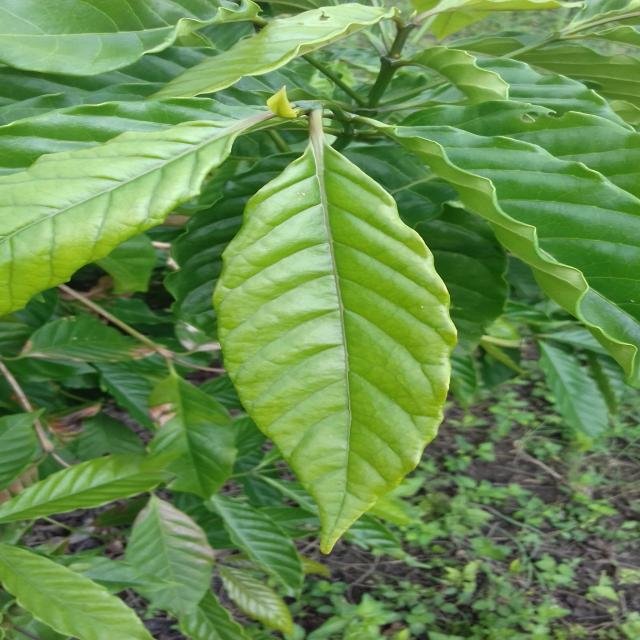Sanas: (212, 108, 459, 557)
